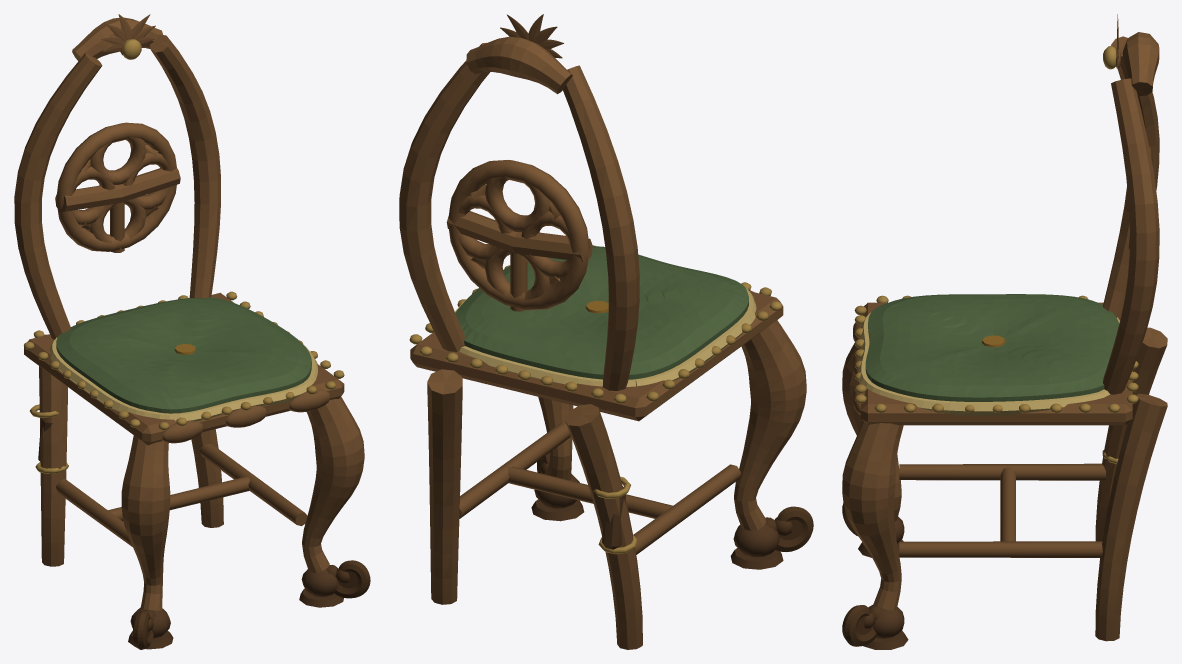
The model's file is chair-dining.glb.
3 views of the same model, side by side, from view 1: azimuth 30°, elevation 25°; view 2: azimuth 150°, elevation 25°; view 3: azimuth 270°, elevation 25° (orthographic). The views are drawn at different scales.
Parts seen in each view (by area): view 1: chair_dining; view 2: chair_dining; view 3: chair_dining.
Part boxes in pixels (box(x1,y1,x2,y2)): chair_dining: box(14, 14, 370, 649); chair_dining: box(399, 14, 813, 649); chair_dining: box(842, 14, 1167, 649).
Size of the model in its own units: 0.5031 by 1.07 by 0.5511.
